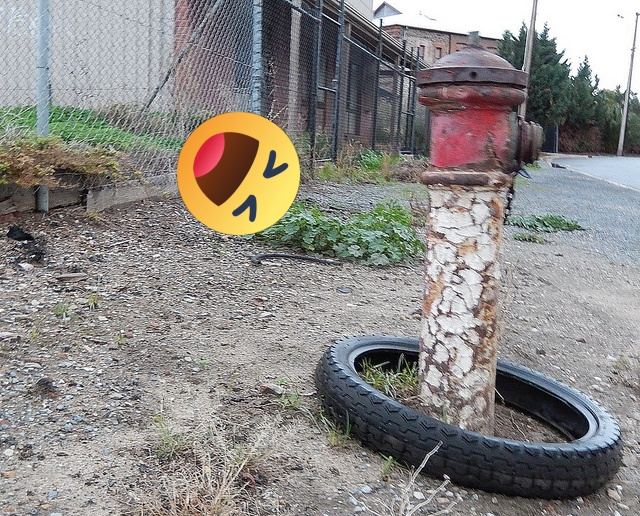haha: (177, 112, 300, 235)
